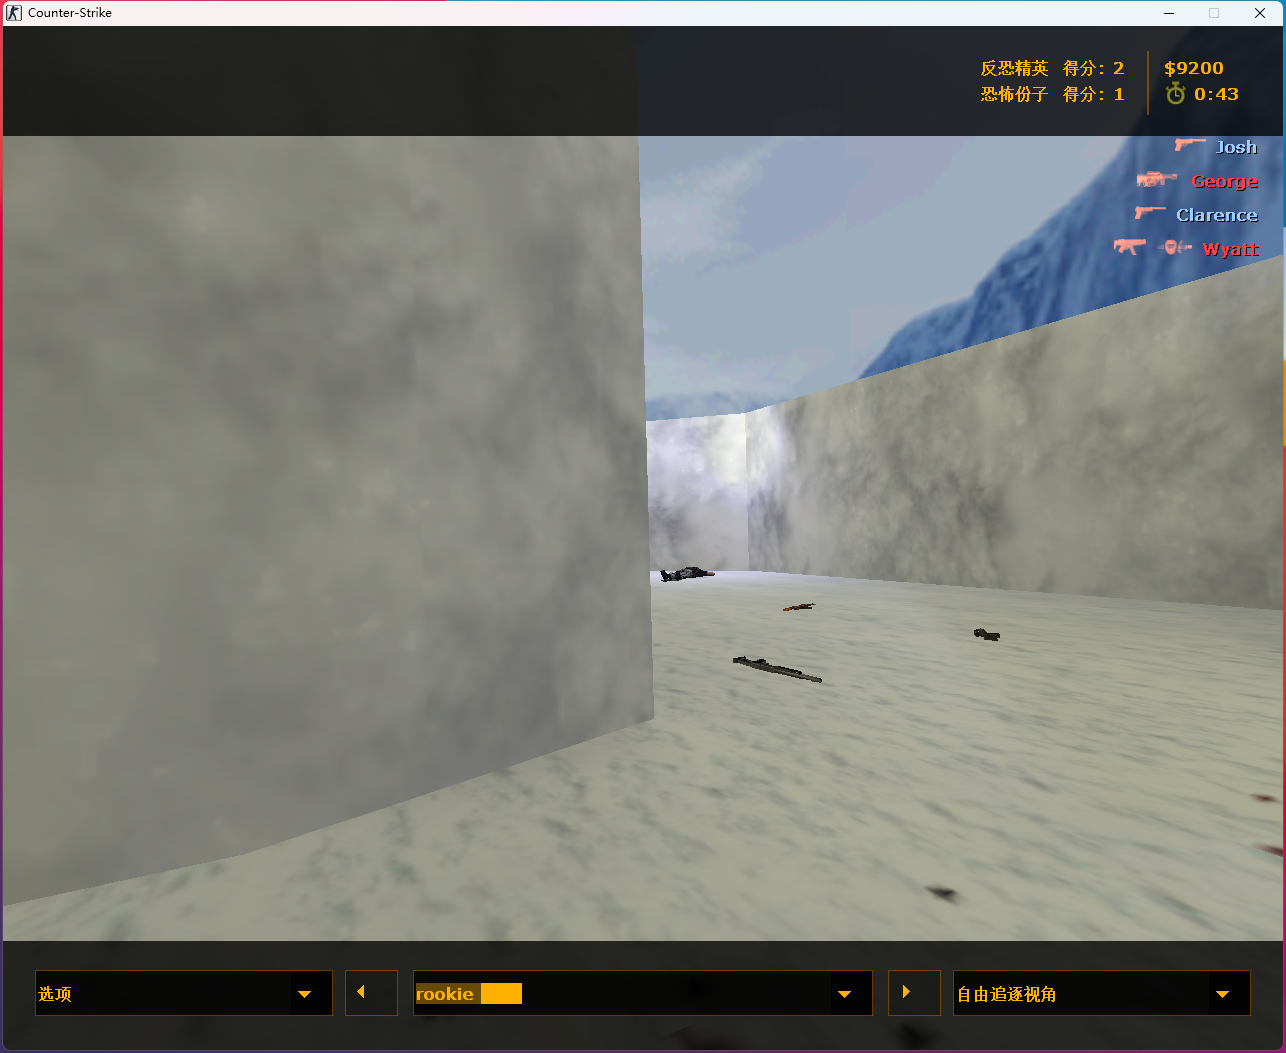dead: (657, 567, 718, 586)
weapon: (733, 653, 820, 683), (969, 626, 1003, 642), (780, 600, 822, 613)
